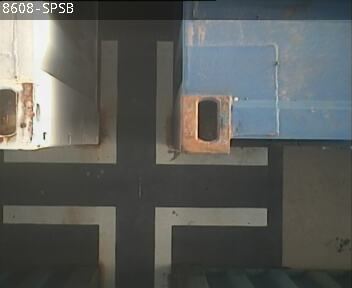groundmarker_1: (2, 41, 267, 163), (2, 206, 267, 288)
